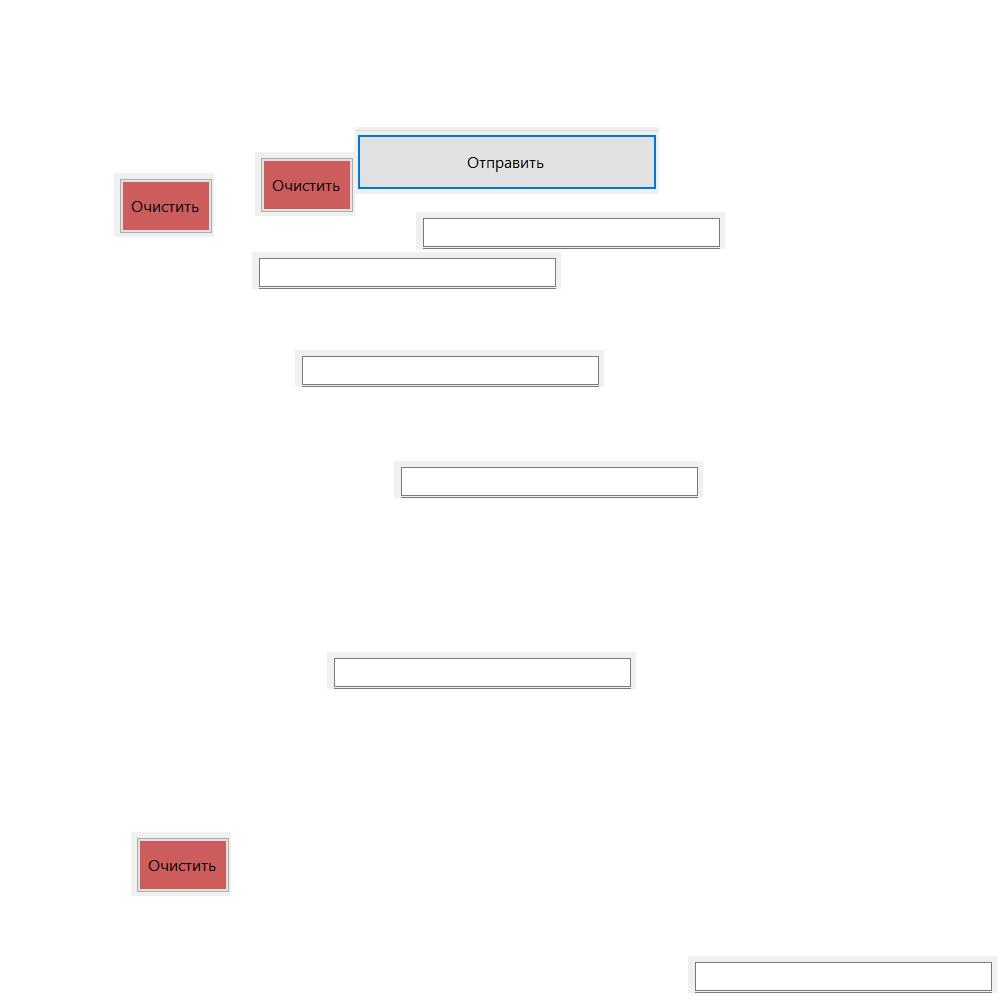Button: (355, 127, 659, 194), (255, 152, 355, 216), (114, 173, 214, 237), (131, 832, 231, 896)
EditText-: (416, 212, 725, 249), (327, 652, 636, 689), (295, 350, 604, 387), (394, 461, 703, 498), (252, 252, 561, 289), (688, 956, 997, 993)
